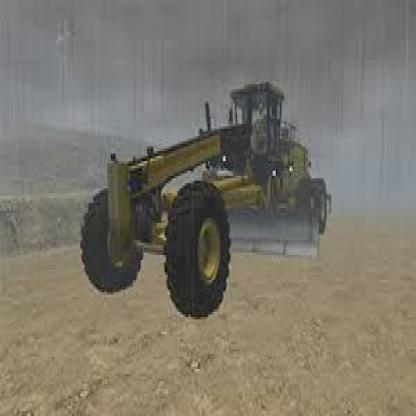bull_dozer/loader/grader: (69, 67, 341, 339)
